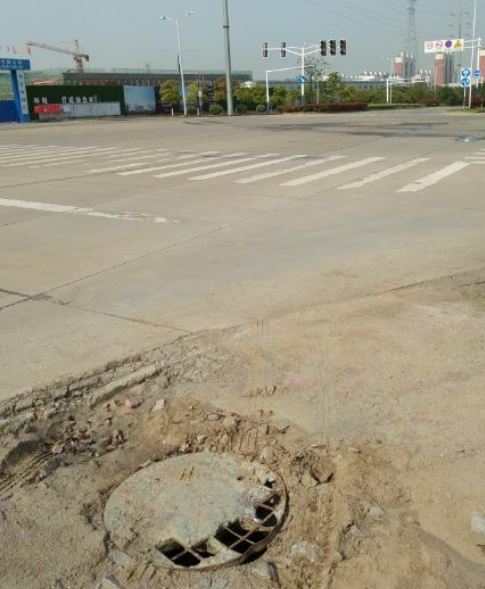broke: (101, 452, 288, 576)
